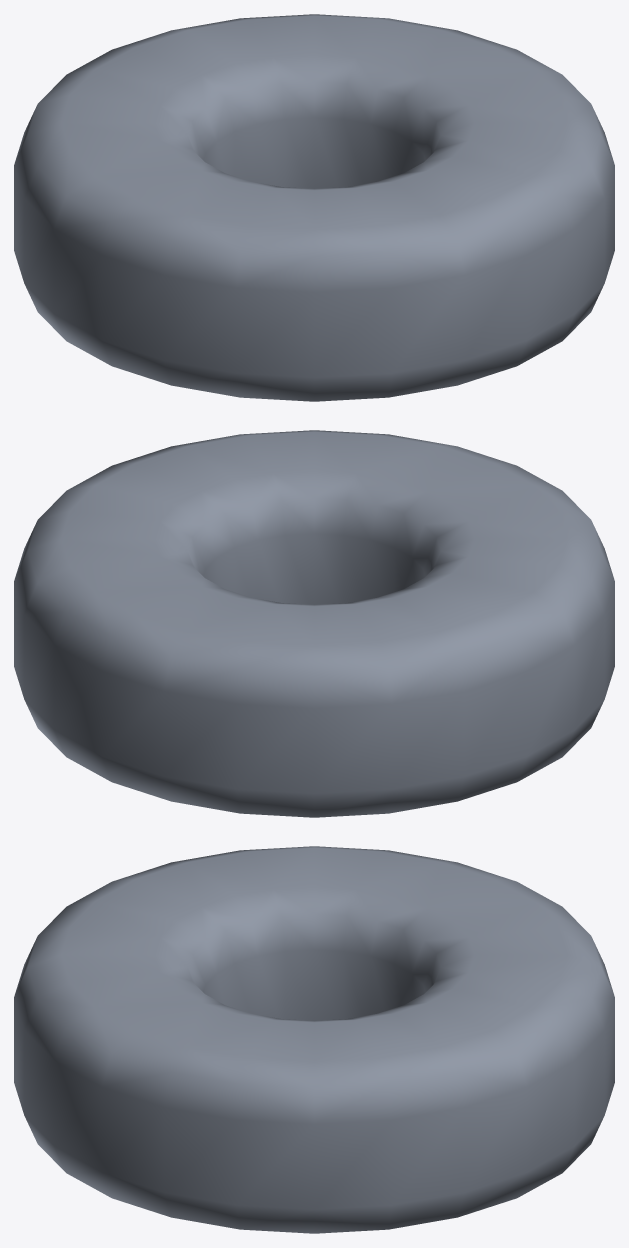
Rendered from Prop_DuctTape.fbx.
3 views of the same model, one above another, from view 1: azimuth 30°, elevation 25°; view 2: azimuth 150°, elevation 25°; view 3: azimuth 270°, elevation 25° (orthographic).
Parts seen in each view (by area): view 1: Prop_DuctTape.Roll; view 2: Prop_DuctTape.Roll; view 3: Prop_DuctTape.Roll.
Part boxes in pixels (x1,y1,x2,y2): Prop_DuctTape.Roll: [14, 14, 614, 401]; Prop_DuctTape.Roll: [14, 430, 614, 817]; Prop_DuctTape.Roll: [14, 846, 614, 1233].
Size of the model in its own units: 0.16 by 0.05 by 0.16.
Materials: 1 (1 with a texture image).
